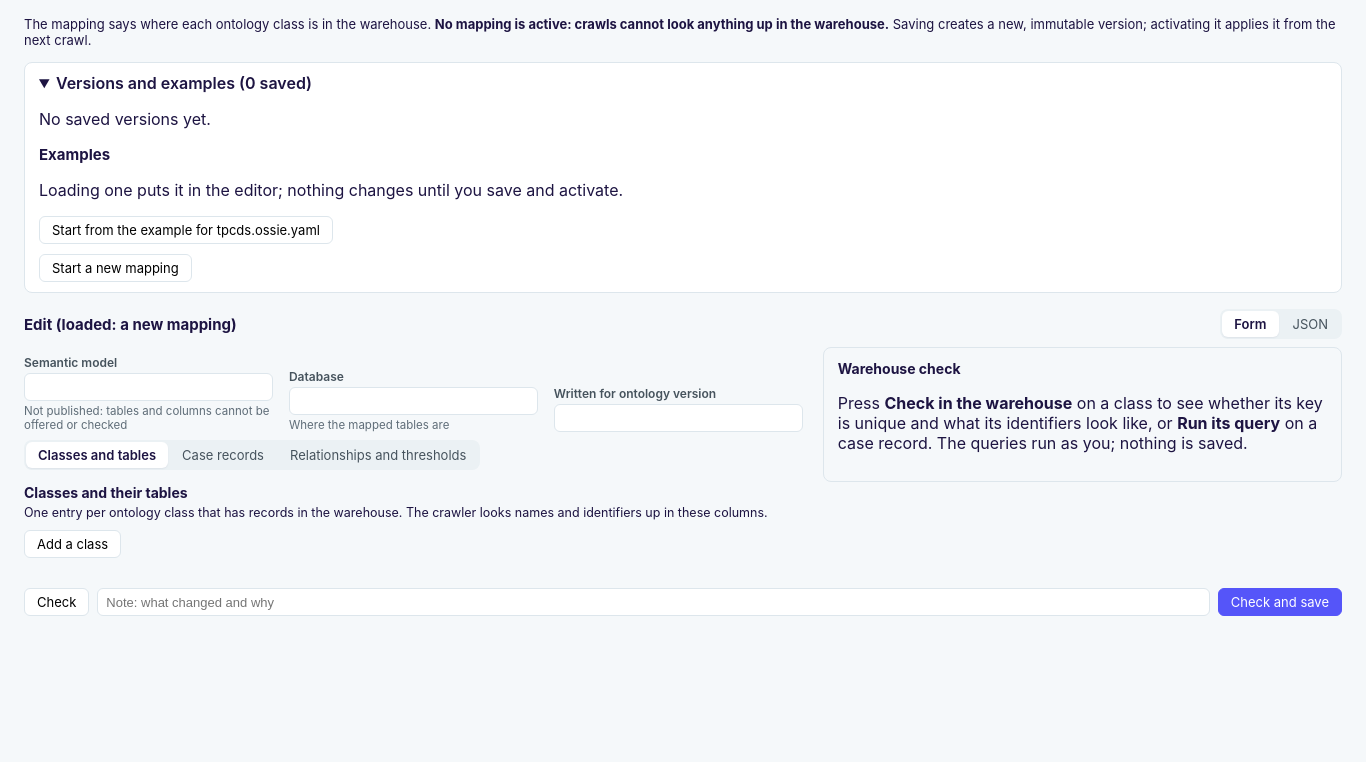
Scenario: MappingTab › starts empty when nothing is saved and offers the examples
Expected: the text "No mapping is active" is shown, left=435, top=16, right=889, bottom=32
Click the button "Start from the example for tpcds.ossie.yaml": point(186, 230) left=39, top=216, right=333, bottom=244
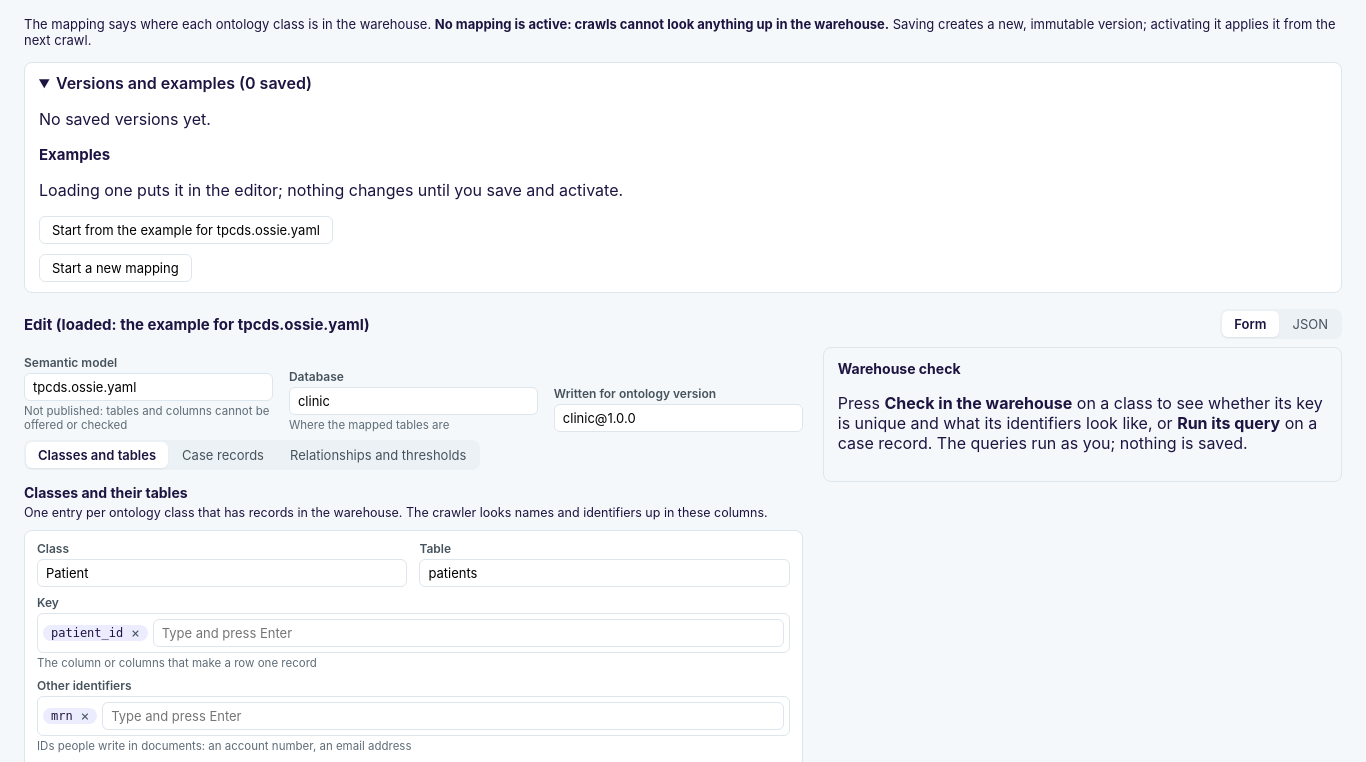
Expected: the field named "Entry 1 table" holds "patients", left=419, top=559, right=790, bottom=587
